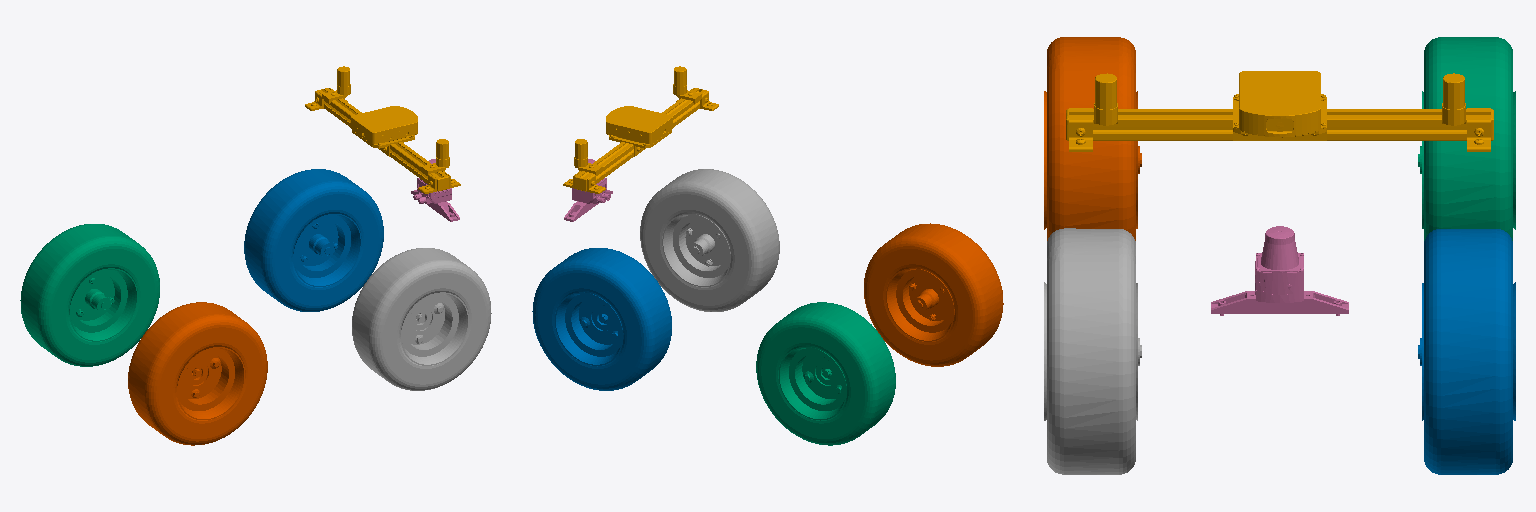
The robot description file, URDF, robot "Bigbot":
<?xml version="1.0" ?>
<!-- =================================================================================== -->
<!-- |    This document was autogenerated by xacro from bigbot.urdf                    | -->
<!-- |    EDITING THIS FILE BY HAND IS NOT RECOMMENDED                                 | -->
<!-- =================================================================================== -->
<robot name="Bigbot">
  <ros2_control name="GazeboSystem" type="system">
    <hardware>
      <plugin>gazebo_ros2_control/GazeboSystem</plugin>
    </hardware>
    <joint name="bigbot_UCSLF_to_wheel_urdf_3_UCS1">
      <command_interface name="velocity">
        <param name="min">-3.1415</param>
        <param name="max">3.1415</param>
      </command_interface>
      <state_interface name="position"/>
      <state_interface name="velocity"/>
    </joint>
    <joint name="bigbot_UCSRF_to_wheel_urdf_1_UCS1">
      <command_interface name="velocity">
        <param name="min">-3.1415</param>
        <param name="max">3.1415</param>
      </command_interface>
      <state_interface name="position"/>
      <state_interface name="velocity"/>
    </joint>
    <joint name="bigbot_UCSLR_to_wheel_urdf_4_UCS1">
      <command_interface name="velocity">
        <param name="min">-3.1415</param>
        <param name="max">3.1415</param>
      </command_interface>
      <state_interface name="position"/>
      <state_interface name="velocity"/>
    </joint>
    <joint name="bigbot_UCSRR_to_wheel_urdf_2_UCS1">
      <command_interface name="velocity">
        <param name="min">-3.1415</param>
        <param name="max">3.1415</param>
      </command_interface>
      <state_interface name="position"/>
      <state_interface name="velocity"/>
    </joint>
  </ros2_control>
  <gazebo>
    <plugin filename="libgazebo_ros2_control.so" name="gazebo_ros2_control">
      <robot_param>robot_description</robot_param>
      <robot_namespace/>
      <robot_param_node>robot_state_publisher</robot_param_node>
      <parameters>[local-path]/bigbot/install/bigbot_control/share/bigbot_control/config/control.yaml</parameters>
    </plugin>
  </gazebo>
  <gazebo reference="Assembly_TIM_lidar_urdf_1_UCS2">
    <sensor name="lidar_front" type="ray">
      <always_on>true</always_on>
      <visualize>true</visualize>
      <pose>0 0 0 0 0 0</pose>
      <update_rate>5</update_rate>
      <ray>
        <scan>
          <horizontal>
            <samples>360</samples>
            <resolution>1.000000</resolution>
            <min_angle>-2.000000</min_angle>
            <max_angle>2.0000</max_angle>
          </horizontal>
        </scan>
        <range>
          <min>0.10000</min>
          <max>5.0</max>
          <resolution>0.015000</resolution>
        </range>
        <noise>
          <type>gaussian</type>
          <mean>0.0</mean>
          <stddev>0.01</stddev>
        </noise>
      </ray>
      <plugin filename="libgazebo_ros_ray_sensor.so" name="bigbot_laserscan">
        <ros>
          <remapping>~/out:=scan</remapping>
        </ros>
        <output_type>sensor_msgs/LaserScan</output_type>
        <frame_name>base_scan</frame_name>
      </plugin>
    </sensor>
  </gazebo>
  <gazebo reference="Assembly_fixposition_frame_1_UCSGPS">
    <sensor name="my_gps" type="gps">
      <!-- ensure the sensor is active (required) -->
      <always_on>true</always_on>
      <update_rate>30</update_rate>
      <plugin filename="libgazebo_ros_gps_sensor.so" name="gps_plugin">
        <ros>
          <namespace/>
          <remapping>~/out:=gps/fix_base</remapping>
        </ros>
      </plugin>
    </sensor>
  </gazebo>
  <link name="base_link"/>
  <link name="bigbot_Base">
    <visual>
      <origin rpy="0 0 0" xyz="0.00000 0.00000 0.00000"/>
      <geometry>
        <mesh filename="package://bigbot_description/models/bigbot/meshes/bigbot_frame.dae" scale="0.001 0.001 0.001"/>
      </geometry>
    </visual>
    <collision>
      <origin rpy="0 0 0" xyz="0.00000 0.00000 0.32"/>
      <geometry>
        <box size="0.42 0.36 0.32"/>
        <!--  diepte/lengte, breedte hoogte -->
      </geometry>
    </collision>
    <inertial>
      <origin xyz="0.00002 -0.00003 0.00301"/>
      <mass value="116.8"/>
      <inertia ixx="4.180745" ixy="30071E-6" ixz="-28790E-6" iyy="8.041496" iyz="34044E-6" izz="9.589644"/>
    </inertial>
  </link>
  <joint name="base_link_to_bigbot_Base" type="fixed">
    <parent link="base_link"/>
    <child link="bigbot_Base"/>
    <origin rpy="0.0 0.0 0.0" xyz="0.00000 0.00000 0.00000"/>
  </joint>
  <link name="bigbot_UCSLF">
    <inertial>
      <mass value="2e-06"/>
      <inertia ixx="1.1e-09" ixy="0" ixz="0" iyy="1.1e-09" iyz="0" izz="1.1e-09"/>
    </inertial>
  </link>
  <joint name="bigbot_Base_to_bigbot_UCSLF" type="fixed">
    <parent link="bigbot_Base"/>
    <child link="bigbot_UCSLF"/>
    <origin rpy="-1.5707963267948966 0.0 0.0" xyz="0.27753 0.16887 0.17107"/>
  </joint>
  <joint name="bigbot_UCSLF_to_wheel_urdf_3_UCS1" type="continuous">
    <parent link="bigbot_UCSLF"/>
    <child link="wheel_urdf_3_UCS1"/>
    <origin rpy="0.0 0.0 0.0" xyz="0.00000 0.00000 0.00000"/>
    <axis xyz="0 0 1"/>
  </joint>
  <link name="wheel_urdf_3_UCS1">
    <inertial>
      <mass value="2e-06"/>
      <inertia ixx="1.1e-09" ixy="0" ixz="0" iyy="1.1e-09" iyz="0" izz="1.1e-09"/>
    </inertial>
  </link>
  <link name="wheel_urdf_3_Base">
    <visual>
      <origin rpy="0 0 0" xyz="0.00000 0.00000 0.00000"/>
      <geometry>
        <mesh filename="package://bigbot_description/models/bigbot/meshes/wheel.dae" scale="0.001 0.001 0.001"/>
      </geometry>
    </visual>
    <inertial>
      <origin xyz="0.00016 -0.00000 0.00000"/>
      <mass value="2.63"/>
      <inertia ixx="24140e-6" ixy="0" ixz="0" iyy="15166e-6" iyz="0" izz="15166e-6"/>
    </inertial>
    <collision>
      <origin rpy="0 1.57 0" xyz="0.02 0.00 0.00000"/>
      <geometry>
        <cylinder length="0.135" radius="0.16"/>
      </geometry>
    </collision>
  </link>
  <gazebo reference="wheel_urdf_3_Base">
    <mu1 value="1.0"/>
    <mu2 value="0.5"/>
    <kp value="10000000.0"/>
    <kd value="1.0"/>
    <fdir1 value="1 0 0"/>
  </gazebo>
  <joint name="wheel_urdf_3_UCS1_to_wheel_urdf_3_Base" type="fixed">
    <parent link="wheel_urdf_3_UCS1"/>
    <child link="wheel_urdf_3_Base"/>
    <origin rpy="-0.0 1.5707963057214722 0.0" xyz="-0.00048 0.00039 0.07671"/>
  </joint>
  <!--
	<link name="wheel_urdf_3_UCS1">
		<inertial>
			<mass value="2e-06" />
			<inertia ixx="1.1e-09" ixy="0" ixz="0" iyy="1.1e-09" iyz="0" izz="1.1e-09" />
		</inertial>
	</link>
	<link name="wheel_urdf_3_Base">
		<visual>
			<origin rpy="0 0 0" xyz="0.00000 0.00000 0.00000" />
			<geometry>
				<mesh filename="package://bigbot_description/models/bigbot/meshes/wheel.dae" scale="0.001 0.001 0.001" />
			</geometry>
		</visual>
		<inertial>
		<origin xyz="0.00016 -0.00000 0.00000" />
			<mass value="2.63" />
			<inertia ixx="24140e-6" ixy="0" ixz="0" iyy="15166e-6" iyz="0" izz="15166e-6" />
		</inertial>
	</link>
	<joint name="wheel_urdf_3_UCS1_to_wheel_urdf_3_Base" type="fixed">
		<parent link="wheel_urdf_3_UCS1" />
		<child link="wheel_urdf_3_Base" />
		<origin rpy="-0.0 1.5707963057214722 0.0" xyz="-0.00048 0.00039 0.07671" />
	</joint>  -->
  <link name="bigbot_UCSRF">
    <inertial>
      <mass value="2e-06"/>
      <inertia ixx="1.1e-09" ixy="0" ixz="0" iyy="1.1e-09" iyz="0" izz="1.1e-09"/>
    </inertial>
  </link>
  <joint name="bigbot_Base_to_bigbot_UCSRF" type="fixed">
    <parent link="bigbot_Base"/>
    <child link="bigbot_UCSRF"/>
    <origin rpy="1.5707963267948966 0.0 0.0" xyz="0.27753 -0.16887 0.17107"/>
  </joint>
  <joint name="bigbot_UCSRF_to_wheel_urdf_1_UCS1" type="continuous">
    <parent link="bigbot_UCSRF"/>
    <child link="wheel_urdf_1_UCS1"/>
    <origin rpy="0.0 0.0 0.0" xyz="0.00000 0.00000 0.00000"/>
    <axis xyz="0 0 1"/>
  </joint>
  <link name="wheel_urdf_1_UCS1">
    <inertial>
      <mass value="2e-06"/>
      <inertia ixx="1.1e-09" ixy="0" ixz="0" iyy="1.1e-09" iyz="0" izz="1.1e-09"/>
    </inertial>
  </link>
  <link name="wheel_urdf_1_Base">
    <visual>
      <origin rpy="0 0 0" xyz="0.00000 0.00000 0.00000"/>
      <geometry>
        <mesh filename="package://bigbot_description/models/bigbot/meshes/wheel.dae" scale="0.001 0.001 0.001"/>
      </geometry>
    </visual>
    <inertial>
      <origin xyz="0.00016 -0.00000 0.00000"/>
      <mass value="2.63"/>
      <inertia ixx="24140e-6" ixy="0" ixz="0" iyy="15166e-6" iyz="0" izz="15166e-6"/>
    </inertial>
    <collision>
      <origin rpy="0 1.57 0" xyz="0.02 0.00 0.00000"/>
      <geometry>
        <cylinder length="0.135" radius="0.16"/>
      </geometry>
    </collision>
  </link>
  <gazebo reference="wheel_urdf_1_Base">
    <mu1 value="1.0"/>
    <mu2 value="0.5"/>
    <kp value="10000000.0"/>
    <kd value="1.0"/>
    <fdir1 value="1 0 0"/>
  </gazebo>
  <joint name="wheel_urdf_1_UCS1_to_wheel_urdf_1_Base" type="fixed">
    <parent link="wheel_urdf_1_UCS1"/>
    <child link="wheel_urdf_1_Base"/>
    <origin rpy="-0.0 1.5707963057214722 0.0" xyz="-0.00048 0.00039 0.07671"/>
  </joint>
  <!--
	<link name="wheel_urdf_1_UCS1">
		<inertial>
			<mass value="2e-06" />
			<inertia ixx="1.1e-09" ixy="0" ixz="0" iyy="1.1e-09" iyz="0" izz="1.1e-09" />
		</inertial>
	</link>
	<link name="wheel_urdf_1_Base">
		<visual>
			<origin rpy="0 0 0" xyz="0.00000 0.00000 0.00000" />
			<geometry>
				<mesh filename="package://bigbot_description/models/bigbot/meshes/wheel.dae" scale="0.001 0.001 0.001" />
			</geometry>
		</visual>
		<inertial>
			<origin xyz="0.00016 -0.00000 0.00000" />
			<mass value="2.63" />
			<inertia ixx="24140e-6" ixy="0" ixz="0" iyy="15166e-6" iyz="0" izz="15166e-6" />
		</inertial>
	</link>
	<joint name="wheel_urdf_1_UCS1_to_wheel_urdf_1_Base" type="fixed">
		<parent link="wheel_urdf_1_UCS1" />
		<child link="wheel_urdf_1_Base" />
		<origin rpy="-0.0 1.5707963057214722 0.0" xyz="-0.00048 0.00039 0.07671" />
	</joint> -->
  <link name="bigbot_UCSLR">
    <inertial>
      <mass value="2e-06"/>
      <inertia ixx="1.1e-09" ixy="0" ixz="0" iyy="1.1e-09" iyz="0" izz="1.1e-09"/>
    </inertial>
  </link>
  <joint name="bigbot_Base_to_bigbot_UCSLR" type="fixed">
    <parent link="bigbot_Base"/>
    <child link="bigbot_UCSLR"/>
    <origin rpy="-1.5707963267948966 0.0 0.0" xyz="-0.27753 0.16887 0.17107"/>
  </joint>
  <joint name="bigbot_UCSLR_to_wheel_urdf_4_UCS1" type="continuous">
    <parent link="bigbot_UCSLR"/>
    <child link="wheel_urdf_4_UCS1"/>
    <origin rpy="0.0 0.0 0.0" xyz="0.00000 0.00000 0.00000"/>
    <axis xyz="0 0 1"/>
  </joint>
  <link name="wheel_urdf_4_UCS1">
    <inertial>
      <mass value="2e-06"/>
      <inertia ixx="1.1e-09" ixy="0" ixz="0" iyy="1.1e-09" iyz="0" izz="1.1e-09"/>
    </inertial>
  </link>
  <link name="wheel_urdf_4_Base">
    <visual>
      <origin rpy="0 0 0" xyz="0.00000 0.00000 0.00000"/>
      <geometry>
        <mesh filename="package://bigbot_description/models/bigbot/meshes/wheel.dae" scale="0.001 0.001 0.001"/>
      </geometry>
    </visual>
    <inertial>
      <origin xyz="0.00016 -0.00000 0.00000"/>
      <mass value="2.63"/>
      <inertia ixx="24140e-6" ixy="0" ixz="0" iyy="15166e-6" iyz="0" izz="15166e-6"/>
    </inertial>
    <collision>
      <origin rpy="0 1.57 0" xyz="0.02 0.00 0.00000"/>
      <geometry>
        <cylinder length="0.135" radius="0.16"/>
      </geometry>
    </collision>
  </link>
  <gazebo reference="wheel_urdf_4_Base">
    <mu1 value="1.0"/>
    <mu2 value="0.5"/>
    <kp value="10000000.0"/>
    <kd value="1.0"/>
    <fdir1 value="1 0 0"/>
  </gazebo>
  <joint name="wheel_urdf_4_UCS1_to_wheel_urdf_4_Base" type="fixed">
    <parent link="wheel_urdf_4_UCS1"/>
    <child link="wheel_urdf_4_Base"/>
    <origin rpy="-0.0 1.5707963057214722 0.0" xyz="-0.00048 0.00039 0.07671"/>
  </joint>
  <!--
	<link name="wheel_urdf_4_UCS1">
		<inertial>
			<mass value="2e-06" />
			<inertia ixx="1.1e-09" ixy="0" ixz="0" iyy="1.1e-09" iyz="0" izz="1.1e-09" />
		</inertial>
	</link>
	<link name="wheel_urdf_4_Base">
		<visual>
			<origin rpy="0 0 0" xyz="0.00000 0.00000 0.00000" />
			<geometry>
				<mesh filename="package://bigbot_description/models/bigbot/meshes/wheel.dae" scale="0.001 0.001 0.001" />
			</geometry>
		</visual>
		<inertial>
			<origin xyz="0.00016 -0.00000 0.00000" />
			<mass value="2.63" />
			<inertia ixx="24140e-6" ixy="0" ixz="0" iyy="15166e-6" iyz="0" izz="15166e-6" />   
		</inertial>
	</link>
	<joint name="wheel_urdf_4_UCS1_to_wheel_urdf_4_Base" type="fixed">
		<parent link="wheel_urdf_4_UCS1" />
		<child link="wheel_urdf_4_Base" />
		<origin rpy="-0.0 1.5707963057214722 0.0" xyz="-0.00048 0.00039 0.07671" />
	</joint> -->
  <link name="bigbot_UCSRR">
    <inertial>
      <mass value="2e-06"/>
      <inertia ixx="1.1e-09" ixy="0" ixz="0" iyy="1.1e-09" iyz="0" izz="1.1e-09"/>
    </inertial>
  </link>
  <joint name="bigbot_Base_to_bigbot_UCSRR" type="fixed">
    <parent link="bigbot_Base"/>
    <child link="bigbot_UCSRR"/>
    <origin rpy="1.5707963267948966 0.0 0.0" xyz="-0.27753 -0.16887 0.17107"/>
  </joint>
  <joint name="bigbot_UCSRR_to_wheel_urdf_2_UCS1" type="continuous">
    <parent link="bigbot_UCSRR"/>
    <child link="wheel_urdf_2_UCS1"/>
    <origin rpy="0.0 0.0 0.0" xyz="0.00000 0.00000 0.00000"/>
    <axis xyz="0 0 1"/>
  </joint>
  <link name="wheel_urdf_2_UCS1">
    <inertial>
      <mass value="2e-06"/>
      <inertia ixx="1.1e-09" ixy="0" ixz="0" iyy="1.1e-09" iyz="0" izz="1.1e-09"/>
    </inertial>
  </link>
  <link name="wheel_urdf_2_Base">
    <visual>
      <origin rpy="0 0 0" xyz="0.00000 0.00000 0.00000"/>
      <geometry>
        <mesh filename="package://bigbot_description/models/bigbot/meshes/wheel.dae" scale="0.001 0.001 0.001"/>
      </geometry>
    </visual>
    <inertial>
      <origin xyz="0.00016 -0.00000 0.00000"/>
      <mass value="2.63"/>
      <inertia ixx="24140e-6" ixy="0" ixz="0" iyy="15166e-6" iyz="0" izz="15166e-6"/>
    </inertial>
    <collision>
      <origin rpy="0 1.57 0" xyz="0.02 0.00 0.00000"/>
      <geometry>
        <cylinder length="0.135" radius="0.16"/>
      </geometry>
    </collision>
  </link>
  <gazebo reference="wheel_urdf_2_Base">
    <mu1 value="1.0"/>
    <mu2 value="0.5"/>
    <kp value="10000000.0"/>
    <kd value="1.0"/>
    <fdir1 value="1 0 0"/>
  </gazebo>
  <joint name="wheel_urdf_2_UCS1_to_wheel_urdf_2_Base" type="fixed">
    <parent link="wheel_urdf_2_UCS1"/>
    <child link="wheel_urdf_2_Base"/>
    <origin rpy="-0.0 1.5707963057214722 0.0" xyz="-0.00048 0.00039 0.07671"/>
  </joint>
  <!--
	<link name="wheel_urdf_2_UCS1">
		<inertial>
			<mass value="2e-06" />
			<inertia ixx="1.1e-09" ixy="0" ixz="0" iyy="1.1e-09" iyz="0" izz="1.1e-09" />
		</inertial>
	</link>
	<link name="wheel_urdf_2_Base">
		<visual>
			<origin rpy="0 0 0" xyz="0.00000 0.00000 0.00000" />
			<geometry>
				<mesh filename="package://bigbot_description/models/bigbot/meshes/wheel.dae" scale="0.001 0.001 0.001" />
			</geometry>
		</visual>
		<inertial>
			<origin xyz="0.00016 -0.00000 0.00000" />
			<mass value="2.63" />
			<inertia ixx="24140e-6" ixy="0" ixz="0" iyy="15166e-6" iyz="0" izz="15166e-6" />
    		</inertial>
	</link>
	<joint name="wheel_urdf_2_UCS1_to_wheel_urdf_2_Base" type="fixed">
		<parent link="wheel_urdf_2_UCS1" />
		<child link="wheel_urdf_2_Base" />
		<origin rpy="-0.0 1.5707963057214722 0.0" xyz="-0.00048 0.00039 0.07671" />
	</joint> -->
  <link name="bigbot_UCSTF">
    <inertial>
      <mass value="2e-06"/>
      <inertia ixx="1.1e-09" ixy="0" ixz="0" iyy="1.1e-09" iyz="0" izz="1.1e-09"/>
    </inertial>
  </link>
  <joint name="bigbot_Base_to_bigbot_UCSTF" type="fixed">
    <parent link="bigbot_Base"/>
    <child link="bigbot_UCSTF"/>
    <origin rpy="0.0 0.0 0.0" xyz="0.37500 0.00000 0.48000"/>
  </joint>
  <joint name="bigbot_UCSTF_to_Assembly_fixposition_frame_1_UCS1" type="fixed">
    <parent link="bigbot_UCSTF"/>
    <child link="Assembly_fixposition_frame_1_UCS1"/>
    <origin rpy="0.0 0.0 0.0" xyz="0.00000 0.00000 0.00000"/>
  </joint>
  <link name="Assembly_fixposition_frame_1_UCS1">
    <inertial>
      <mass value="2e-06"/>
      <inertia ixx="1.1e-09" ixy="0" ixz="0" iyy="1.1e-09" iyz="0" izz="1.1e-09"/>
    </inertial>
  </link>
  <link name="Assembly_fixposition_frame_1_Base">
    <visual>
      <origin rpy="0 0 0" xyz="0.00000 0.00000 0.00000"/>
      <geometry>
        <mesh filename="package://bigbot_description/models/bigbot/meshes/fixpos.dae" scale="0.001 0.001 0.001"/>
      </geometry>
    </visual>
    <inertial>
      <origin xyz="-0.00000 0.00048 0.00008"/>
      <mass value="1.5"/>
      <inertia ixx="1174e-6" ixy="1e-6" ixz="-1.199e-6" iyy="15542e-6" iyz="-105e-6" izz="15095e-6"/>
    </inertial>
  </link>
  <joint name="Assembly_fixposition_frame_1_UCS1_to_Assembly_fixposition_frame_1_Base" type="fixed">
    <parent link="Assembly_fixposition_frame_1_UCS1"/>
    <child link="Assembly_fixposition_frame_1_Base"/>
    <origin rpy="1.5707963267948966 0.0 1.5707963267948966" xyz="-0.06000 0.00000 0.00000"/>
  </joint>
  <link name="Assembly_fixposition_frame_1_UCSCAMERA">
    <inertial>
      <mass value="2e-06"/>
      <inertia ixx="1.1e-09" ixy="0" ixz="0" iyy="1.1e-09" iyz="0" izz="1.1e-09"/>
    </inertial>
  </link>
  <joint name="Assembly_fixposition_frame_1_Base_to_Assembly_fixposition_frame_1_UCSCAMERA" type="fixed">
    <parent link="Assembly_fixposition_frame_1_Base"/>
    <child link="Assembly_fixposition_frame_1_UCSCAMERA"/>
    <origin rpy="-1.5707963267948966 -1.5707963267948966 0.0" xyz="0.00000 0.04900 0.07373"/>
  </joint>
  <link name="Assembly_fixposition_frame_1_UCSGPS">
    <inertial>
      <mass value="2e-06"/>
      <inertia ixx="1.1e-09" ixy="0" ixz="0" iyy="1.1e-09" iyz="0" izz="1.1e-09"/>
    </inertial>
  </link>
  <joint name="Assembly_fixposition_frame_1_Base_to_Assembly_fixposition_frame_1_UCSGPS" type="fixed">
    <parent link="Assembly_fixposition_frame_1_Base"/>
    <child link="Assembly_fixposition_frame_1_UCSGPS"/>
    <origin rpy="-1.5707963267948966 -1.5707963267948966 0.0" xyz="0.00000 0.06300 0.03012"/>
  </joint>
  <link name="bigbot_UCSTR">
    <inertial>
      <mass value="2e-06"/>
      <inertia ixx="1.1e-09" ixy="0" ixz="0" iyy="1.1e-09" iyz="0" izz="1.1e-09"/>
    </inertial>
  </link>
  <joint name="bigbot_Base_to_bigbot_UCSTR" type="fixed">
    <parent link="bigbot_Base"/>
    <child link="bigbot_UCSTR"/>
    <origin rpy="0.0 0.0 0.0" xyz="-0.37500 0.00000 0.48000"/>
  </joint>
  <link name="bigbot_UCSBarF">
    <inertial>
      <mass value="2e-06"/>
      <inertia ixx="1.1e-09" ixy="0" ixz="0" iyy="1.1e-09" iyz="0" izz="1.1e-09"/>
    </inertial>
  </link>
  <joint name="bigbot_Base_to_bigbot_UCSBarF" type="fixed">
    <parent link="bigbot_Base"/>
    <child link="bigbot_UCSBarF"/>
    <origin rpy="0.0 0.0 0.0" xyz="0.44600 0.00000 0.30600"/>
  </joint>
  <joint name="bigbot_UCSBarF_to_Assembly_TIM_lidar_urdf_1_UCS1" type="fixed">
    <parent link="bigbot_UCSBarF"/>
    <child link="Assembly_TIM_lidar_urdf_1_UCS1"/>
    <origin rpy="0.0 0.0 0.0" xyz="0.00000 0.00000 0.00000"/>
  </joint>
  <link name="Assembly_TIM_lidar_urdf_1_UCS1">
    <inertial>
      <mass value="2e-06"/>
      <inertia ixx="1.1e-09" ixy="0" ixz="0" iyy="1.1e-09" iyz="0" izz="1.1e-09"/>
    </inertial>
  </link>
  <link name="Assembly_TIM_lidar_urdf_1_Base">
    <visual>
      <origin rpy="0 0 0" xyz="0.00000 0.00000 0.00000"/>
      <geometry>
        <mesh filename="package://bigbot_description/models/bigbot/meshes/tim_lidar.dae" scale="0.01 0.01 0.01"/>
      </geometry>
    </visual>
    <inertial>
      <origin xyz="-0.00000 0.00002 0.00042"/>
      <mass value="0.41"/>
      <inertia ixx="375.5e-6" ixy="58.4e-8" ixz="-0.068E-6" iyy="521.7E-6" iyz="1.547E-6" izz="323.259E-6"/>
    </inertial>
  </link>
  <joint name="Assembly_TIM_lidar_urdf_1_UCS1_to_Assembly_TIM_lidar_urdf_1_Base" type="fixed">
    <parent link="Assembly_TIM_lidar_urdf_1_UCS1"/>
    <child link="Assembly_TIM_lidar_urdf_1_Base"/>
    <origin rpy="0.0 0.0 1.5707963267948966" xyz="0.00000 0.00000 0.00000"/>
  </joint>
  <link name="Assembly_TIM_lidar_urdf_1_UCS2">
    <inertial>
      <mass value="2e-06"/>
      <inertia ixx="1.1e-09" ixy="0" ixz="0" iyy="1.1e-09" iyz="0" izz="1.1e-09"/>
    </inertial>
  </link>
  <joint name="Assembly_TIM_lidar_urdf_1_Base_to_Assembly_TIM_lidar_urdf_1_UCS2" type="fixed">
    <parent link="Assembly_TIM_lidar_urdf_1_Base"/>
    <child link="Assembly_TIM_lidar_urdf_1_UCS2"/>
    <origin rpy="0.0 0.0 -1.5707963267948966" xyz="0.00000 0.00000 0.08500"/>
  </joint>
  <link name="bigbot_UCSBarR">
    <inertial>
      <mass value="2e-06"/>
      <inertia ixx="1.1e-09" ixy="0" ixz="0" iyy="1.1e-09" iyz="0" izz="1.1e-09"/>
    </inertial>
  </link>
  <joint name="bigbot_Base_to_bigbot_UCSBarR" type="fixed">
    <parent link="bigbot_Base"/>
    <child link="bigbot_UCSBarR"/>
    <origin rpy="0.0 0.0 0.0" xyz="-0.44600 0.00000 0.30600"/>
  </joint>
</robot>

--- What the picture shows (computed from the rendered views, not written in the file) ---
Views: 3 orthographic renders of the robot side by side, from view 1: azimuth 30°, elevation 25°; view 2: azimuth 150°, elevation 25°; view 3: azimuth 270°, elevation 25°.
Model Bigbot with 25 links and 24 joints (4 continuous, 20 fixed), rooted at base_link, posed all joints at 0.
Visible links, largest first — view 1: wheel_urdf_3_Base, wheel_urdf_2_Base, wheel_urdf_4_Base, wheel_urdf_1_Base, Assembly_fixposition_frame_1_Base, Assembly_TIM_lidar_urdf_1_Base; view 2: wheel_urdf_1_Base, wheel_urdf_2_Base, wheel_urdf_4_Base, wheel_urdf_3_Base, Assembly_fixposition_frame_1_Base, Assembly_TIM_lidar_urdf_1_Base; view 3: wheel_urdf_1_Base, wheel_urdf_3_Base, Assembly_fixposition_frame_1_Base, wheel_urdf_4_Base, wheel_urdf_2_Base, Assembly_TIM_lidar_urdf_1_Base.
Link boxes in pixels (<box>): wheel_urdf_3_Base: <box>244,169,383,311</box>; wheel_urdf_2_Base: <box>128,302,267,445</box>; wheel_urdf_4_Base: <box>20,224,159,366</box>; wheel_urdf_1_Base: <box>352,248,491,390</box>; Assembly_fixposition_frame_1_Base: <box>305,66,460,193</box>; Assembly_TIM_lidar_urdf_1_Base: <box>411,159,459,221</box>; wheel_urdf_1_Base: <box>640,169,779,311</box>; wheel_urdf_2_Base: <box>864,223,1003,366</box>; wheel_urdf_4_Base: <box>756,302,895,445</box>; wheel_urdf_3_Base: <box>532,248,671,390</box>; Assembly_fixposition_frame_1_Base: <box>563,66,718,193</box>; Assembly_TIM_lidar_urdf_1_Base: <box>564,159,612,221</box>; wheel_urdf_1_Base: <box>1044,228,1141,474</box>; wheel_urdf_3_Base: <box>1418,229,1515,474</box>; Assembly_fixposition_frame_1_Base: <box>1066,71,1493,151</box>; wheel_urdf_4_Base: <box>1418,37,1515,240</box>; wheel_urdf_2_Base: <box>1044,37,1141,240</box>; Assembly_TIM_lidar_urdf_1_Base: <box>1211,226,1348,315</box>.
Bounding box of the posed robot: 0.9036 × 0.577 × 0.5505 m (x, y, z).
Meshes: 4 distinct files referenced, 6 mesh visuals loaded (3 Collada DAE); not drawn: 1 (reference not matched to a file when rendering).
